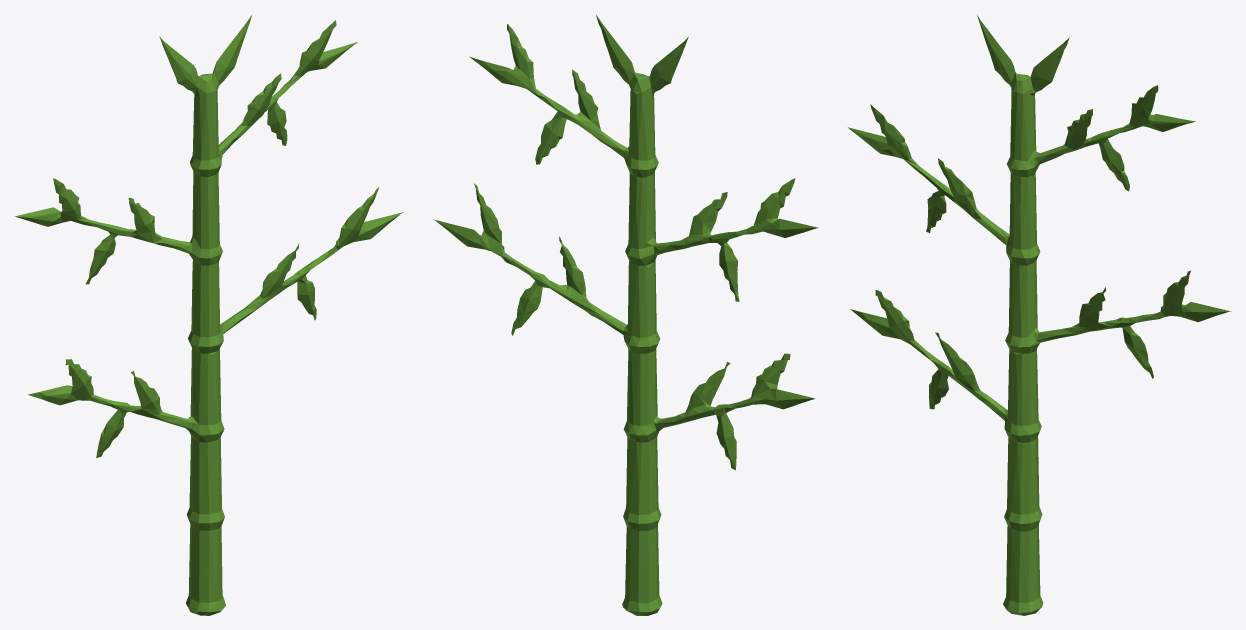
Rendered from NEW_RECOVERY_042_LOD1.fbx.
3 views of the same model, side by side, from view 1: azimuth 30°, elevation 25°; view 2: azimuth 150°, elevation 25°; view 3: azimuth 330°, elevation 25° (orthographic).
Visible parts, largest first — view 1: Bamboo_whole_connected_solid; view 2: Bamboo_whole_connected_solid; view 3: Bamboo_whole_connected_solid.
Part boxes in pixels (bbox=[...]): Bamboo_whole_connected_solid: bbox=[14, 14, 403, 615]; Bamboo_whole_connected_solid: bbox=[434, 15, 818, 615]; Bamboo_whole_connected_solid: bbox=[848, 15, 1231, 615].
Size of the model in its own units: 332 by 33.48 by 478.
